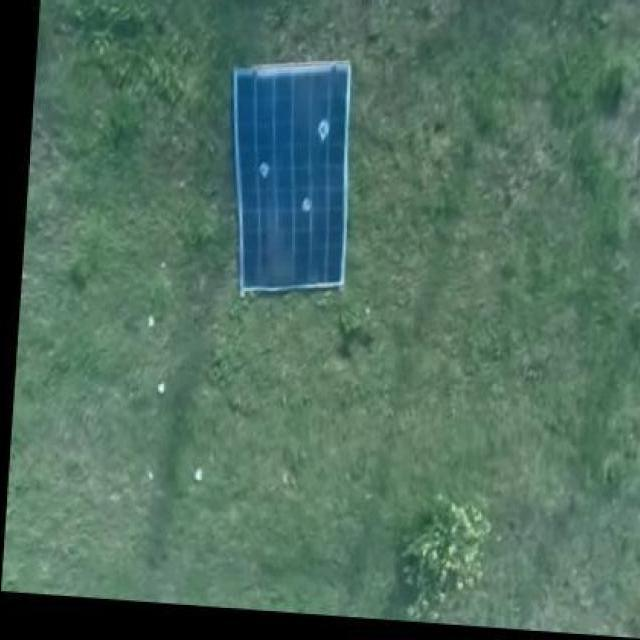soiled: (233, 61, 354, 288)
